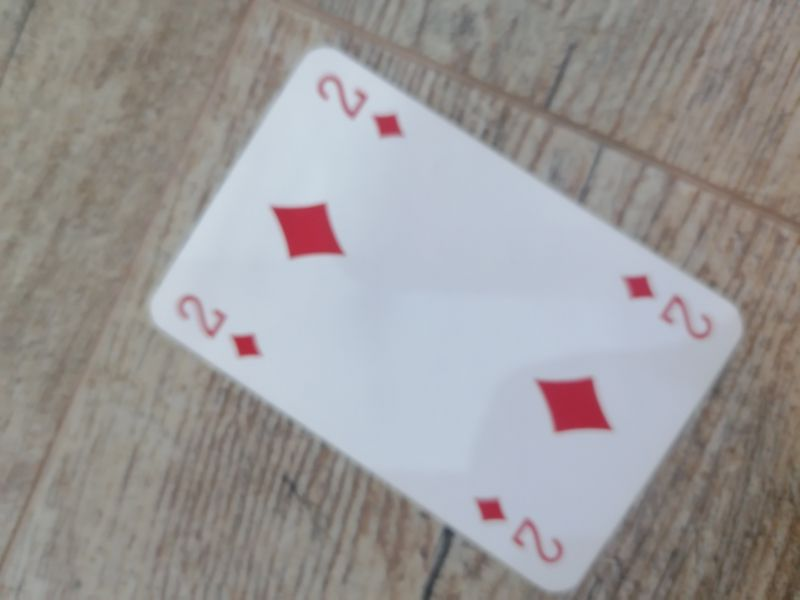2d: (469, 489, 570, 568), (617, 268, 720, 345), (311, 65, 409, 145), (172, 287, 269, 364)
